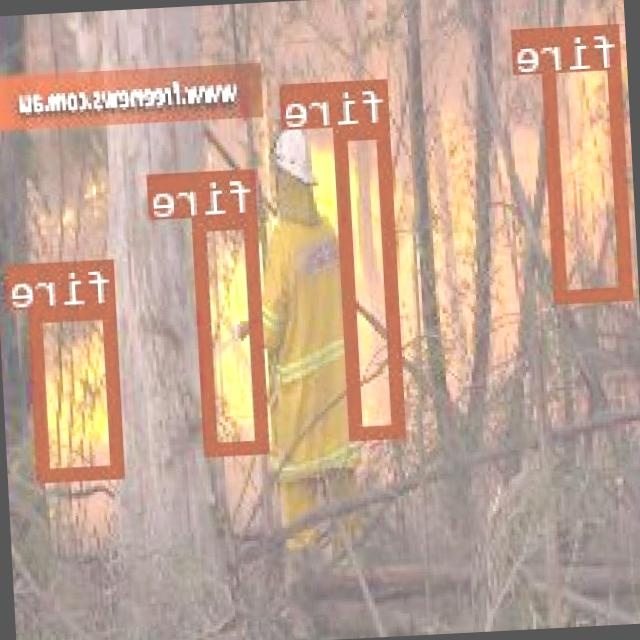fire: (544, 23, 634, 301), (338, 125, 407, 438), (195, 213, 272, 452), (33, 304, 128, 480)
